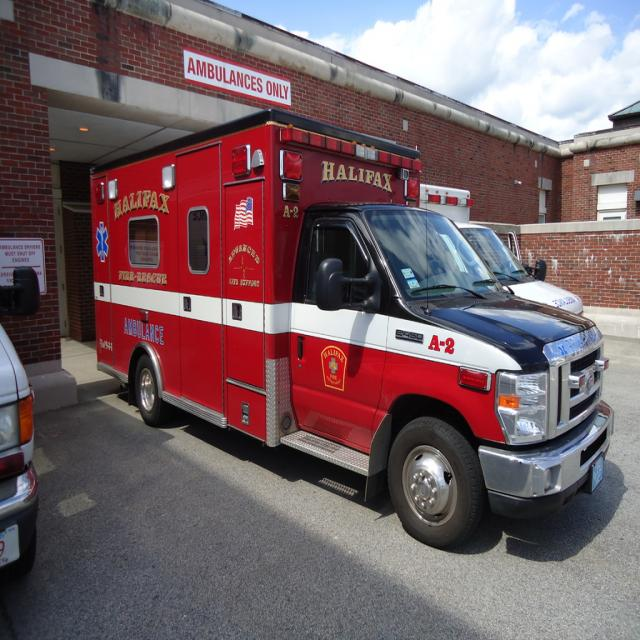Ambulance: (90, 110, 612, 543)
